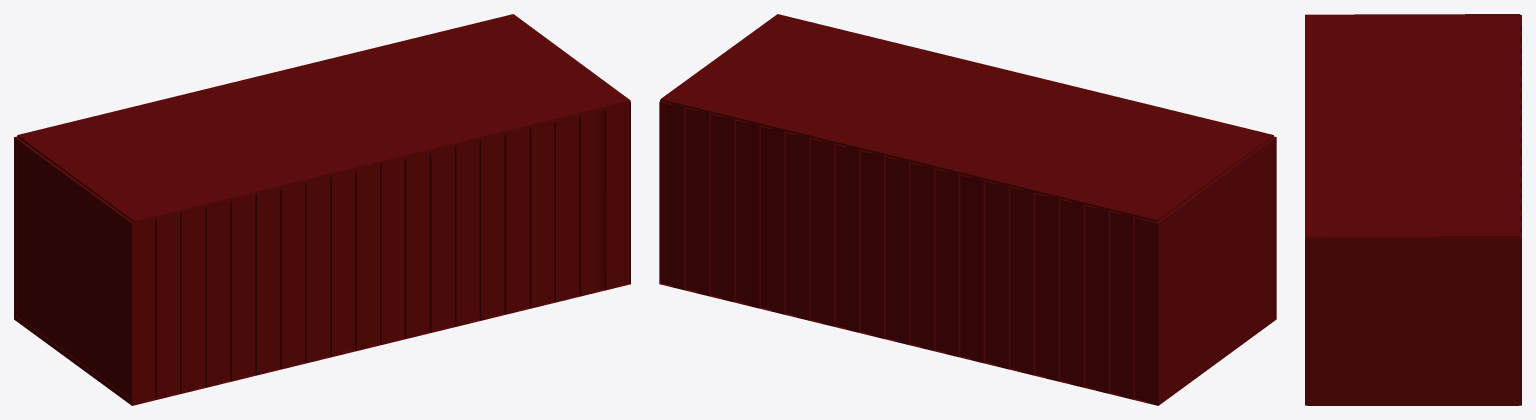
The model's file is container-close-red.FBX.
The picture shows the model from 3 angles, left to right: view 1: azimuth 30°, elevation 25°; view 2: azimuth 150°, elevation 25°; view 3: azimuth 270°, elevation 25°; orthographic projection. The views are drawn at different scales.
Parts seen in each view (by area): view 1: Box002, Box010, Box011, Box009; view 2: Box002, Box010, Box011, Box009; view 3: Box010, Box009, Box002.
Boxes of the visible parts, x1,y1,x2,y2 form: Box002: (14, 102, 630, 405); Box010: (17, 14, 630, 222); Box011: (16, 144, 129, 398); Box009: (625, 104, 629, 283); Box002: (659, 101, 1276, 405); Box010: (660, 14, 1273, 222); Box011: (1160, 144, 1273, 398); Box009: (660, 100, 665, 283); Box010: (1305, 14, 1520, 238); Box009: (1307, 237, 1519, 405); Box002: (1305, 15, 1521, 405).
Bounding box in the file's own units: 115 × 40.74 × 47.26.
